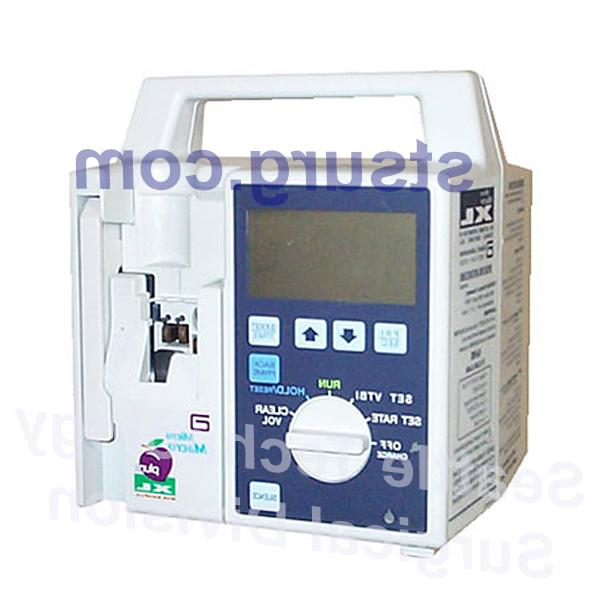plumxl1: (68, 74, 548, 545)
